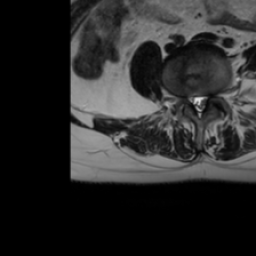CCS_normal: (196, 89, 201, 122)
LFS_severe_stenosis: (208, 85, 215, 105)
LLS_severe_stenosis: (201, 89, 208, 109)
RFS_severe_stenosis: (180, 89, 188, 109)
RLS_stenosis: (188, 90, 196, 111)
